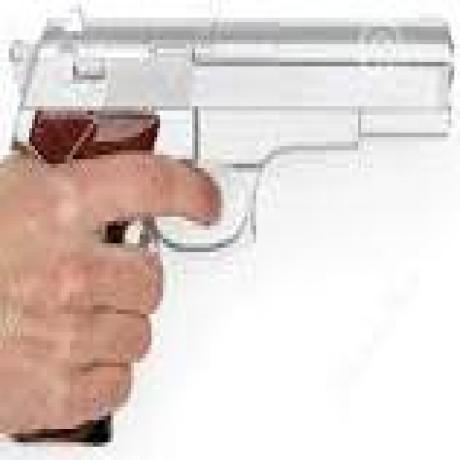1: (0, 144, 222, 436)
weapon: (14, 9, 455, 444)
